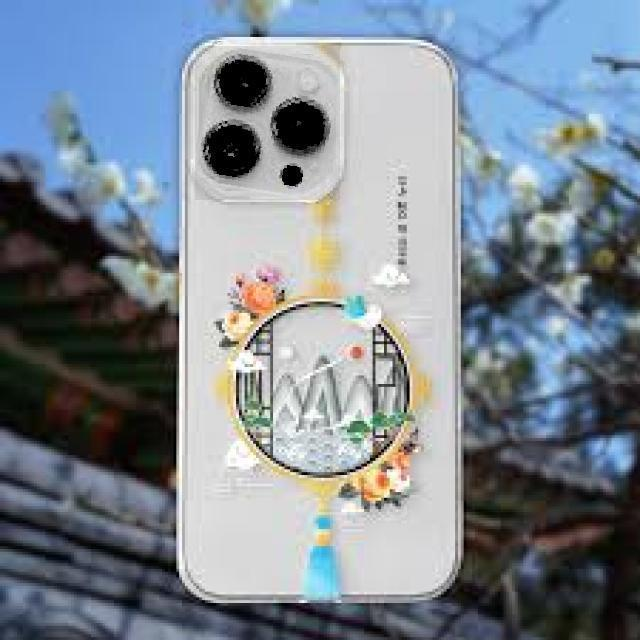phone: (175, 32, 469, 610)
